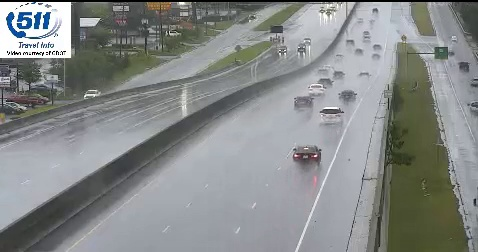car: (293, 146, 321, 162), (320, 107, 342, 124), (293, 96, 314, 111), (307, 83, 325, 96), (339, 90, 356, 102)
